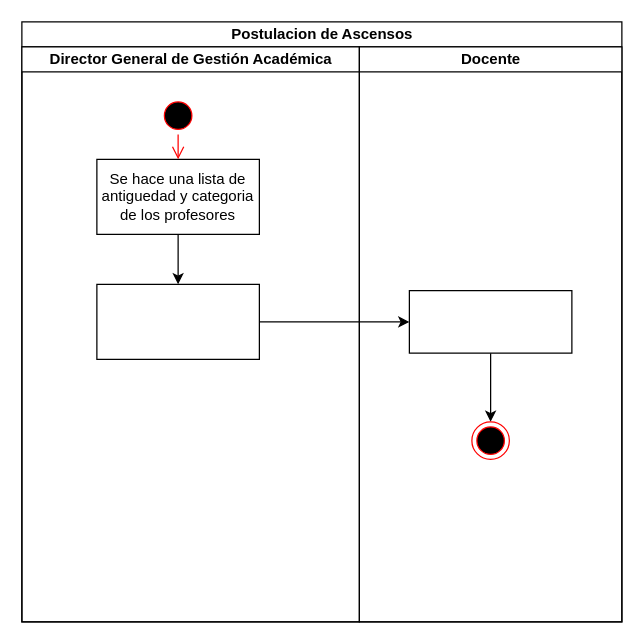
Some shapes in this 644 by 644 pixel diagram are drawn without their labels. The shapes that lost their labels are listed below. From the top down, each one's centre as x and y in pixels, then its label:
At (177,321): "Se hace llamado a los profesores que cumplen los requisitos".
At (490,321): "Se les notifica para optar por el concurso de ascenso".
